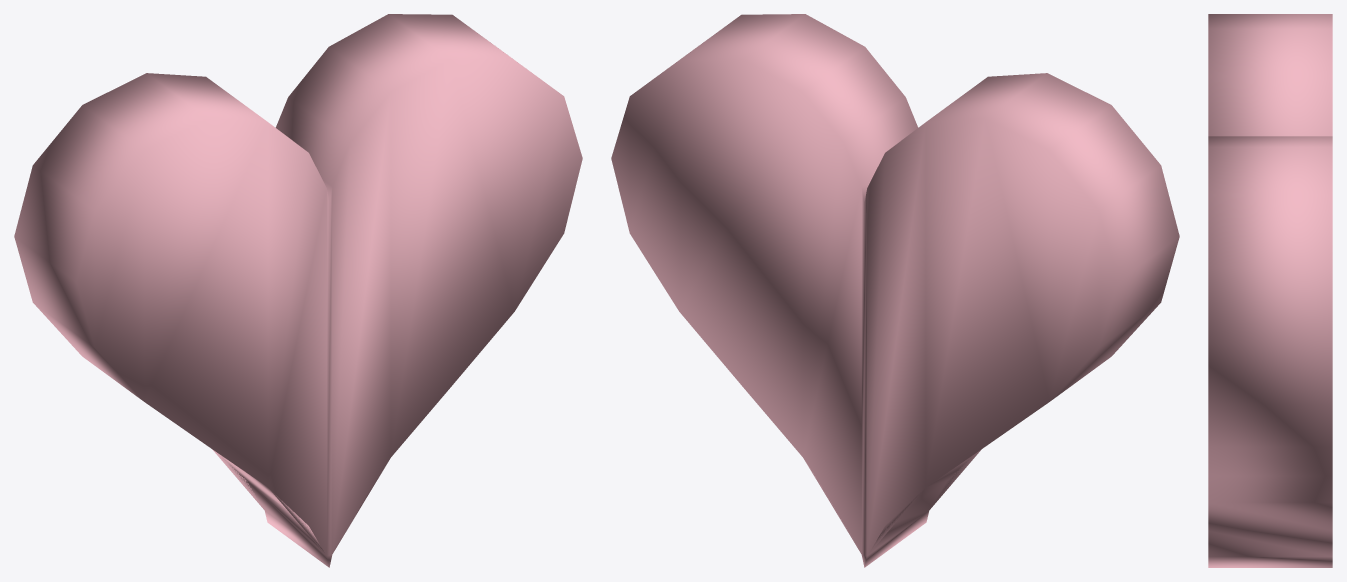
Rendered from fx-Heart_Source.ac9584eea4.glb.
3 views of the same model, side by side, from view 1: azimuth 30°, elevation 25°; view 2: azimuth 150°, elevation 25°; view 3: azimuth 270°, elevation 25° (orthographic).
Parts seen in each view (by area): view 1: Heart_Source; view 2: Heart_Source; view 3: Heart_Source.
Part boxes in pixels (box(x1,y1,x2,y2)): Heart_Source: box(14, 14, 582, 567); Heart_Source: box(611, 14, 1179, 567); Heart_Source: box(1208, 14, 1332, 567).
Size of the model in its own units: 0.1129 by 0.1021 by 0.024.
